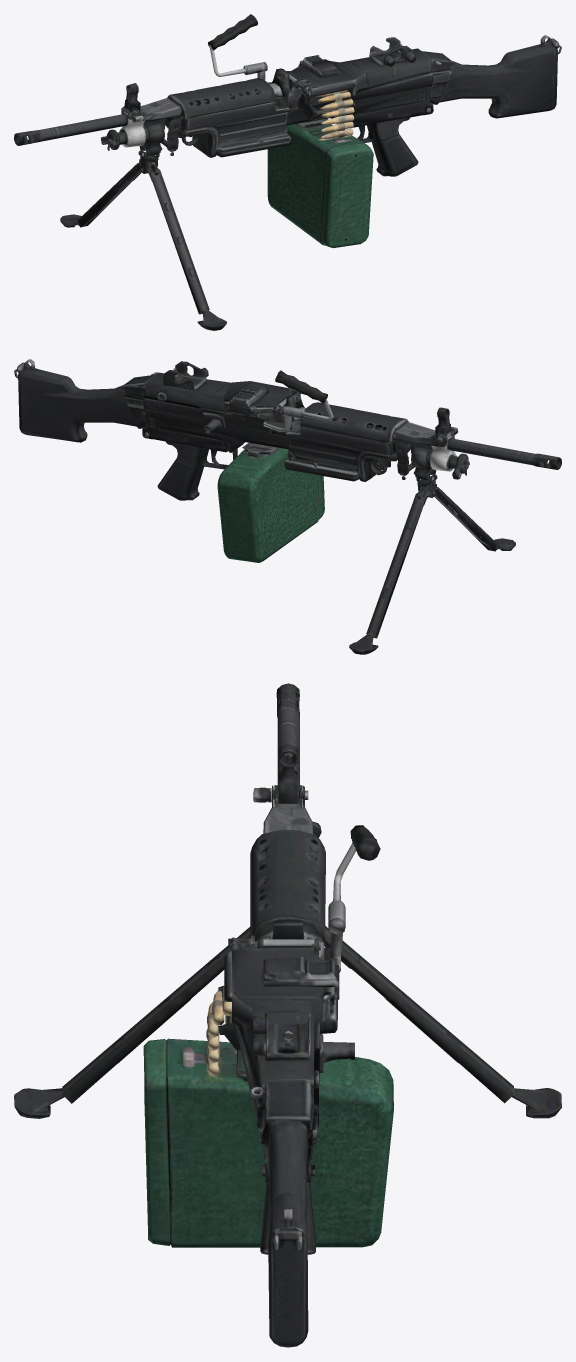
The model's file is rifle.glb.
3 renders of one model, top to bottom at view 1: azimuth 30°, elevation 25°; view 2: azimuth 150°, elevation 25°; view 3: azimuth 270°, elevation 25°, orthographic. The views are drawn at different scales.
Parts seen in each view (by area): view 1: tripo_node_8ea2db4f-29f8-45a8-9d40-b7a3e0bfade9; view 2: tripo_node_8ea2db4f-29f8-45a8-9d40-b7a3e0bfade9; view 3: tripo_node_8ea2db4f-29f8-45a8-9d40-b7a3e0bfade9.
Part boxes in pixels (left/top/right/bottom): tripo_node_8ea2db4f-29f8-45a8-9d40-b7a3e0bfade9: left=14, top=14, right=561, bottom=330; tripo_node_8ea2db4f-29f8-45a8-9d40-b7a3e0bfade9: left=14, top=359, right=561, bottom=654; tripo_node_8ea2db4f-29f8-45a8-9d40-b7a3e0bfade9: left=14, top=683, right=561, bottom=1347.
Size of the model in its own units: 0.9995 by 0.377 by 0.481.
Materials: 1 (1 with a texture image).
